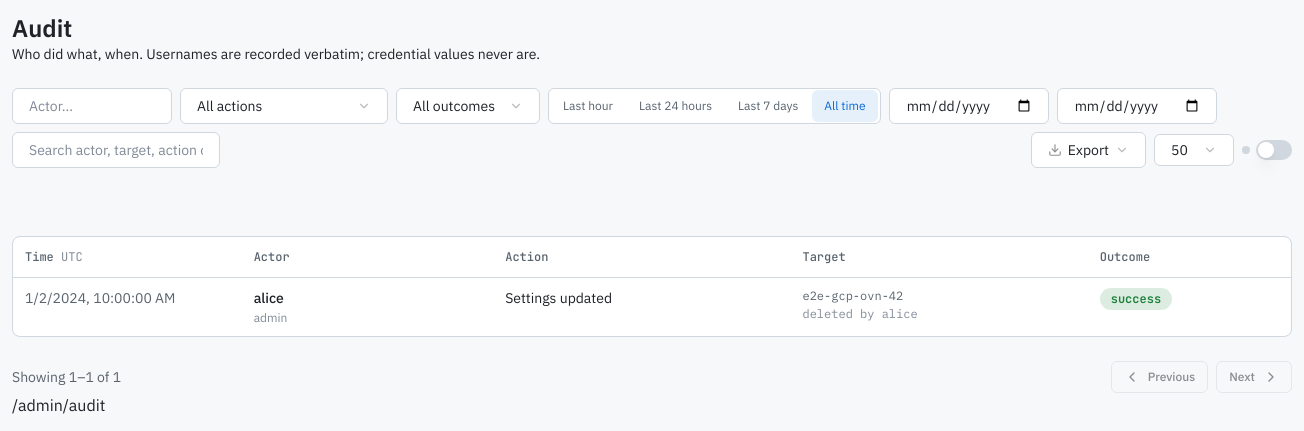
Test case: AdminAuditPage › says which audit event deleted a gone job and links to it
The image size is (1304, 431).
Check: the text "e2e-gcp-ovn-42" is shown, box [802, 288, 903, 302]
Hover over the link "deleted by alice".
mouse_move(860, 313)  # box [802, 306, 918, 320]
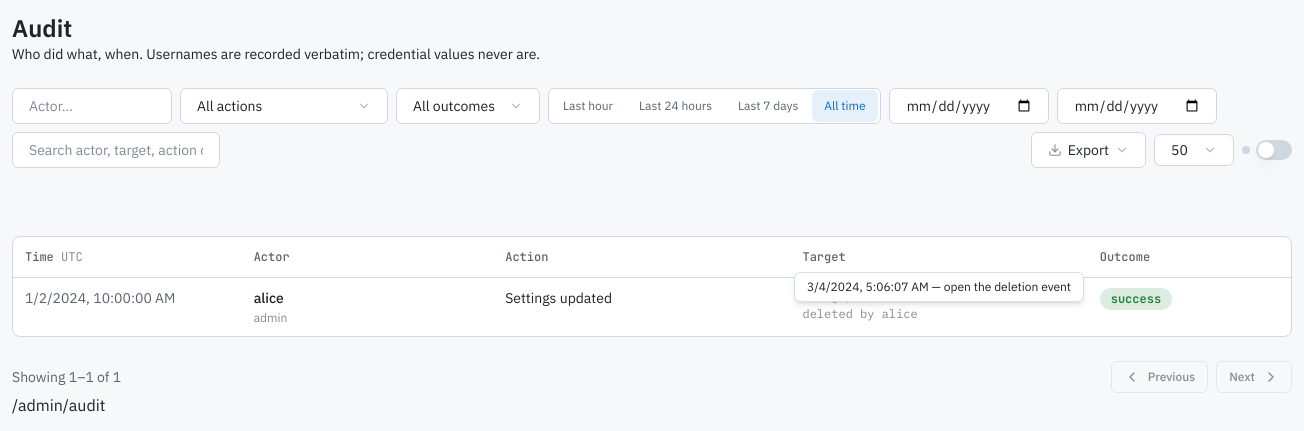
Check: the tooltip shows "open the deletion event", box [807, 279, 1071, 294]
